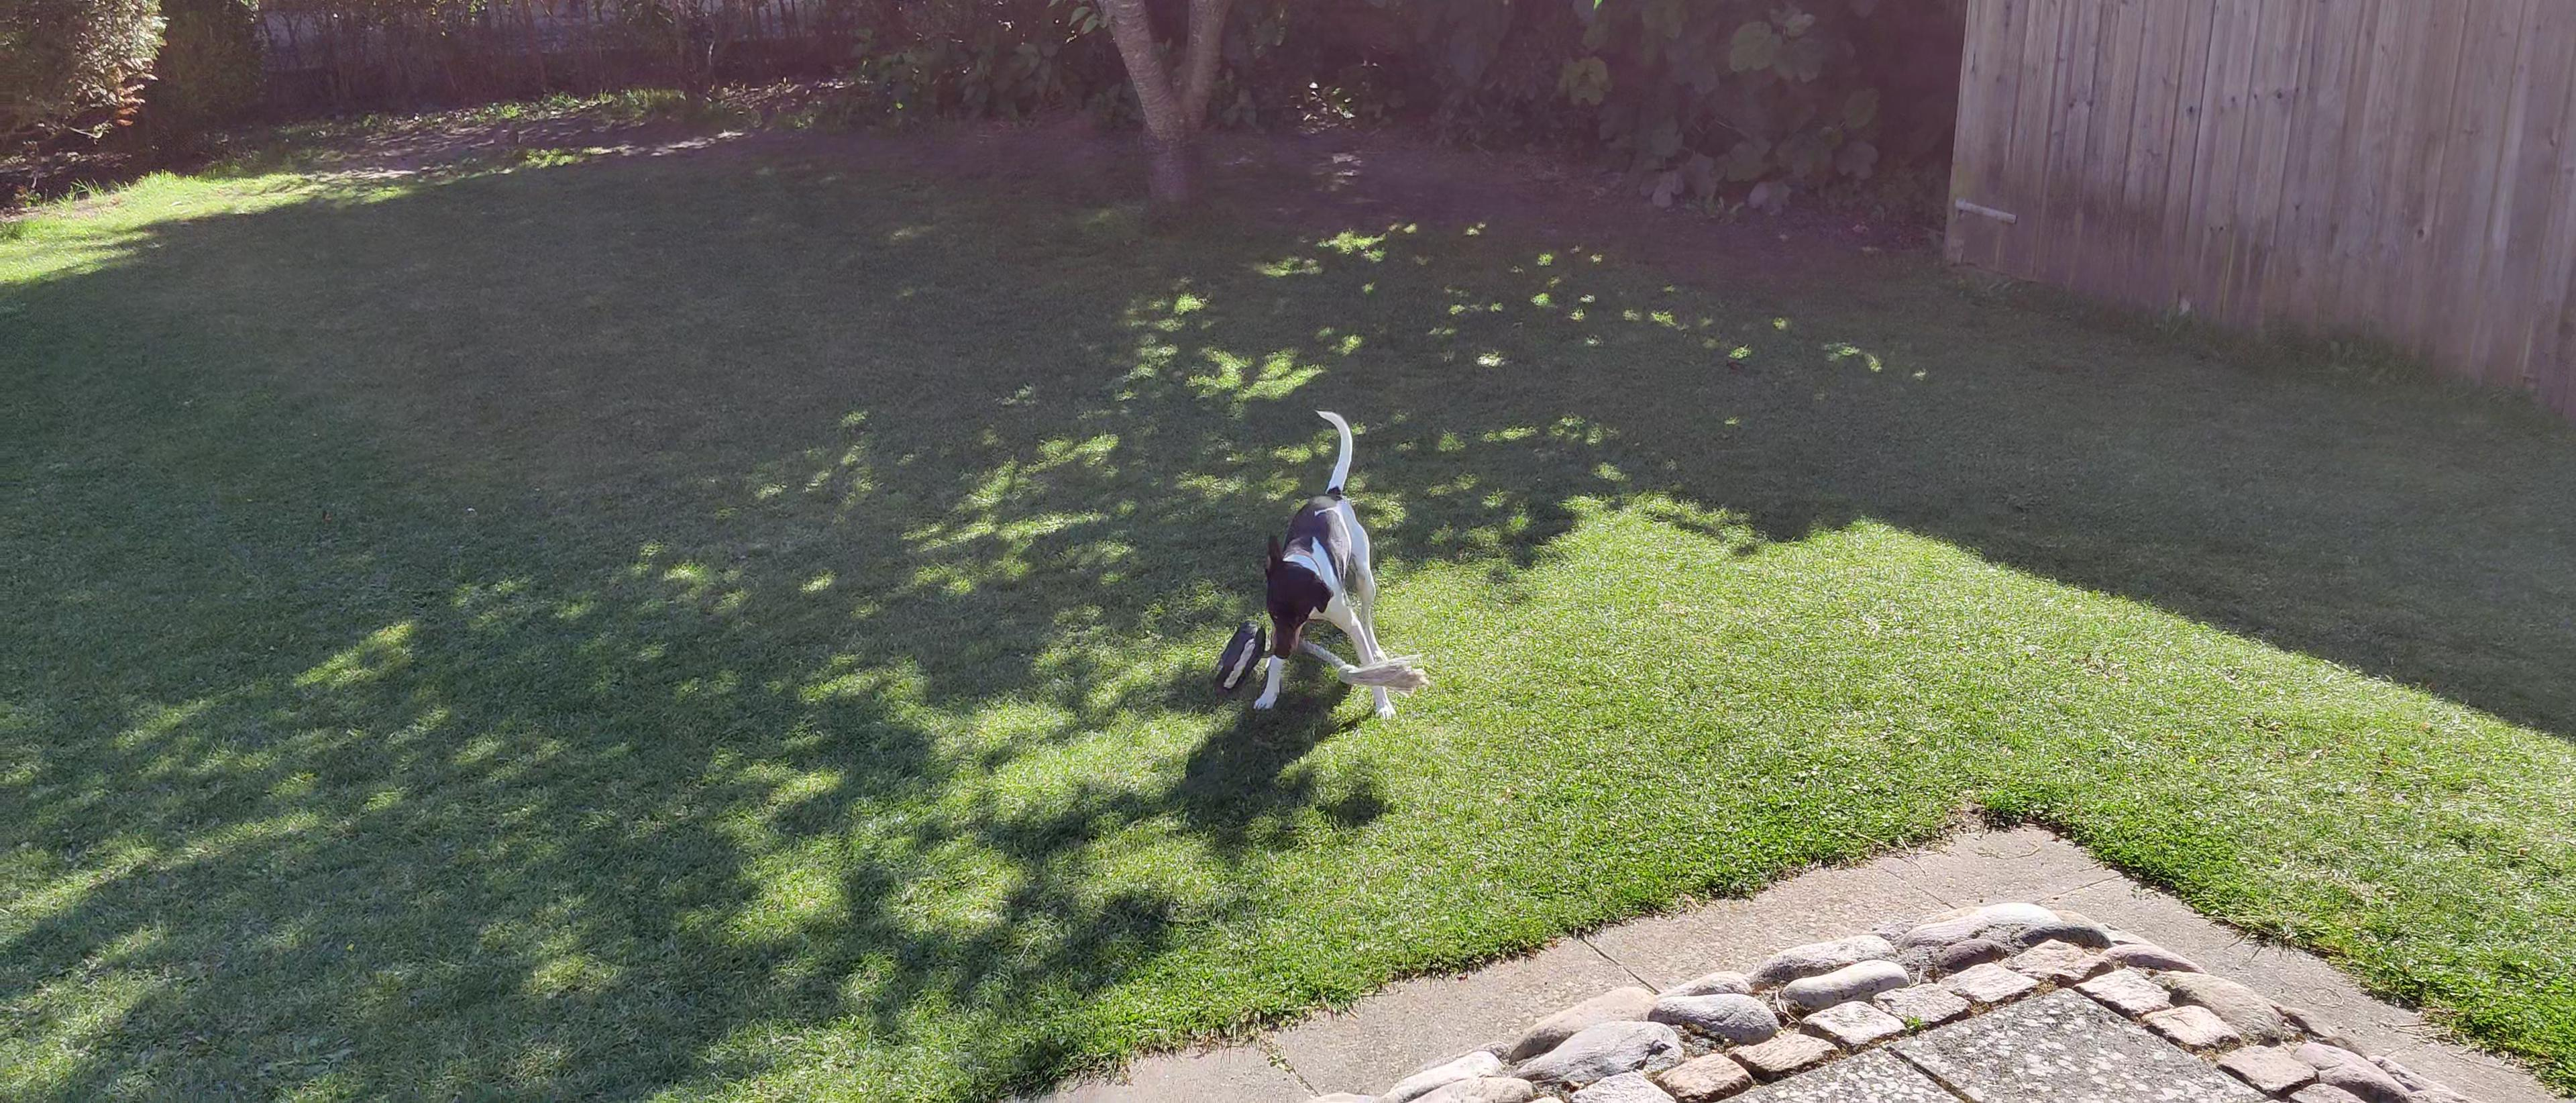Dog: (1226, 398, 1428, 727)
